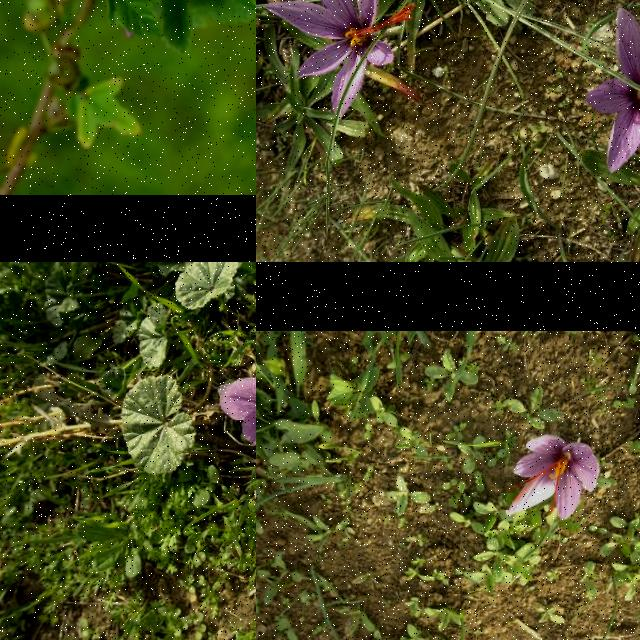flower: (266, 0, 413, 120), (586, 8, 640, 173), (507, 436, 601, 518), (218, 334, 256, 465)
